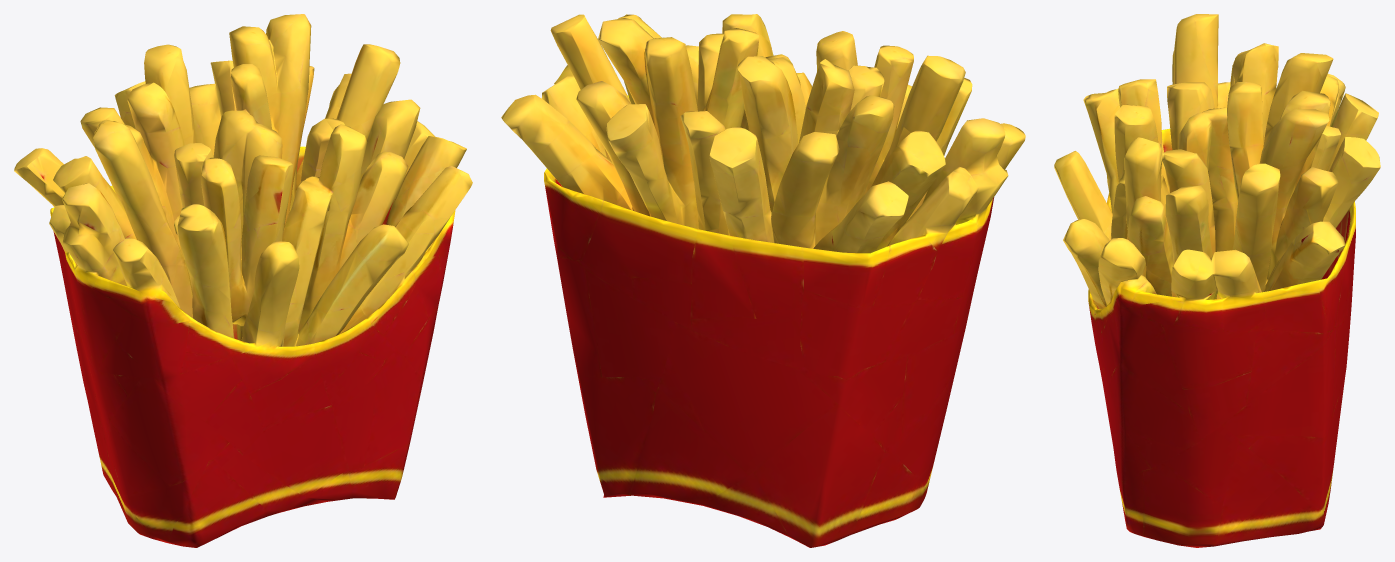
File: dish_fries.glb
3 views of the same model, side by side, from view 1: azimuth 30°, elevation 25°; view 2: azimuth 150°, elevation 25°; view 3: azimuth 270°, elevation 25° (orthographic). The views are drawn at different scales.
Bounding box in the file's own units: 1.85 × 1.89 × 1.34.
Materials: 1 (1 with a texture image).
